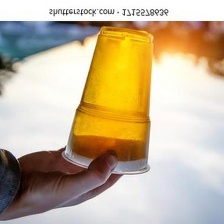glass: (53, 20, 166, 181)
